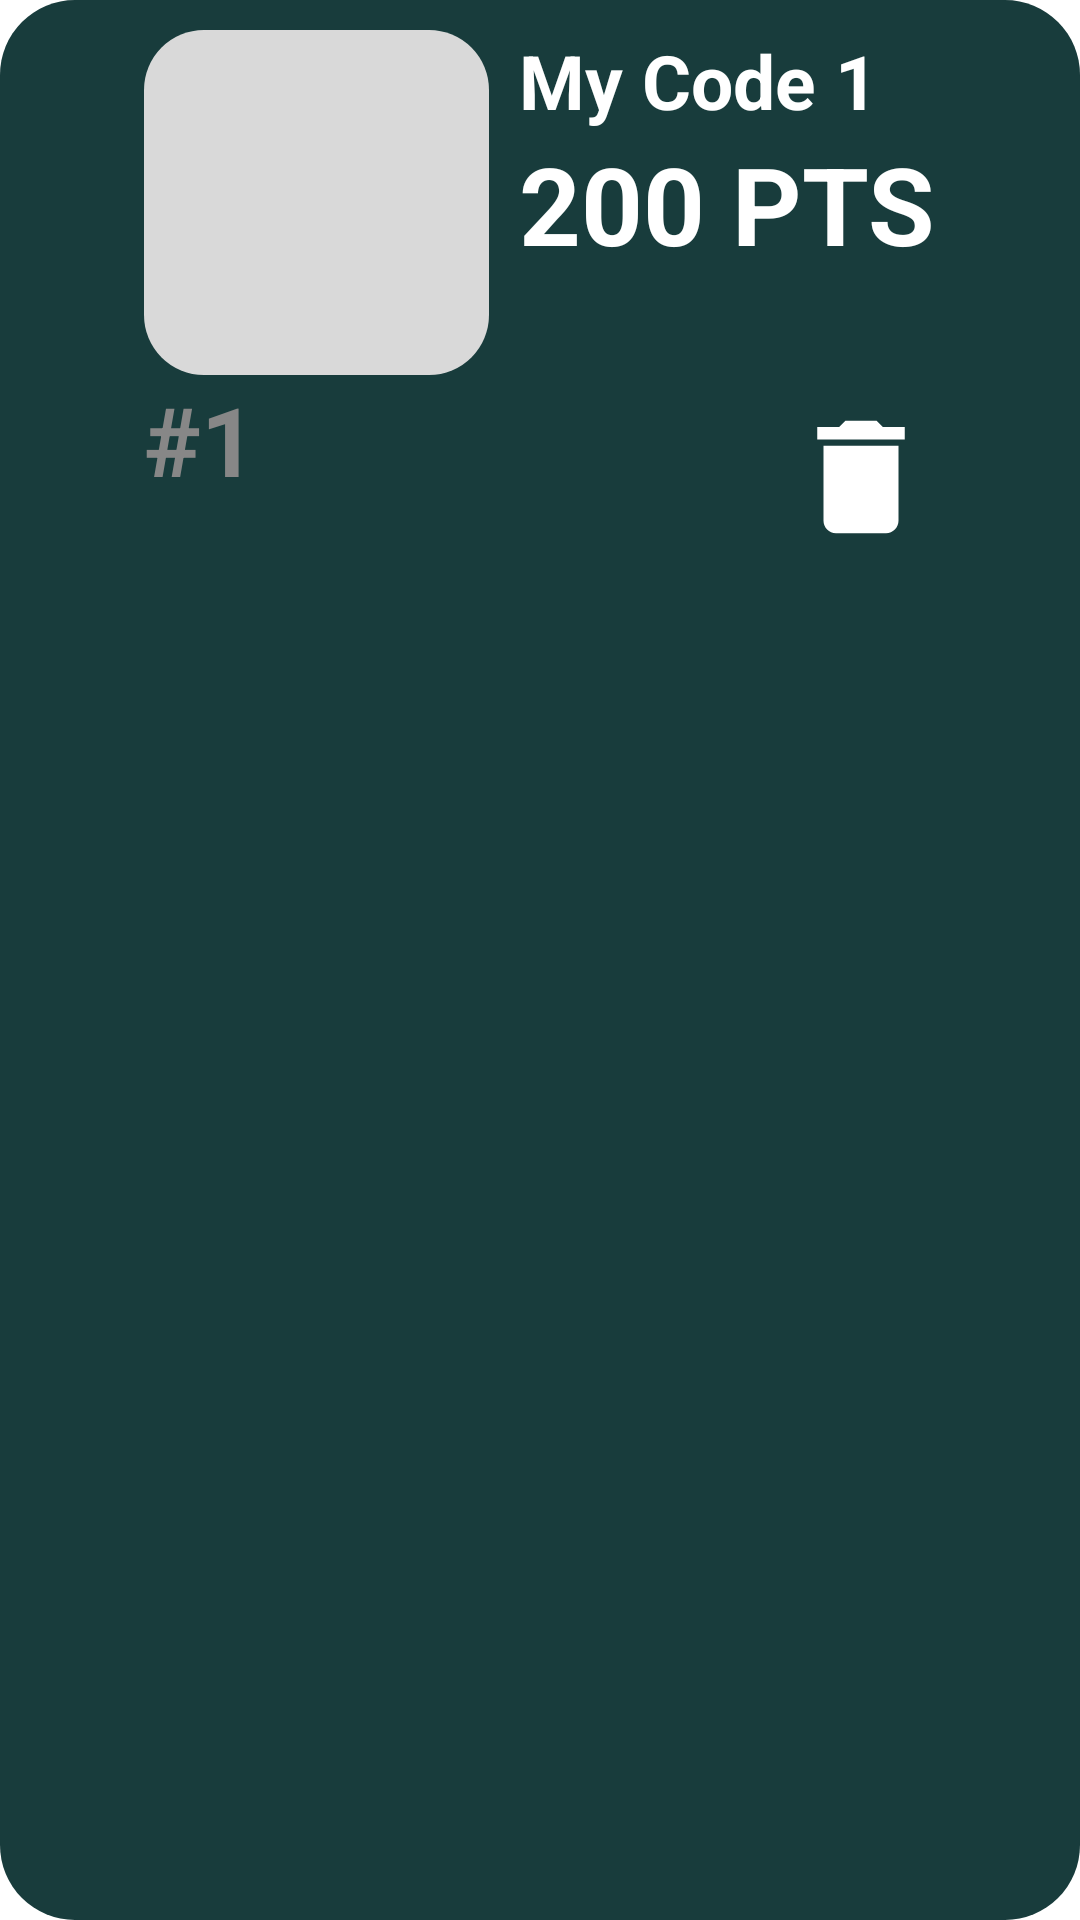

Icons on this 1080x1920 Android screen, each with the point to tap as (x,y):
delete: (861,477)
